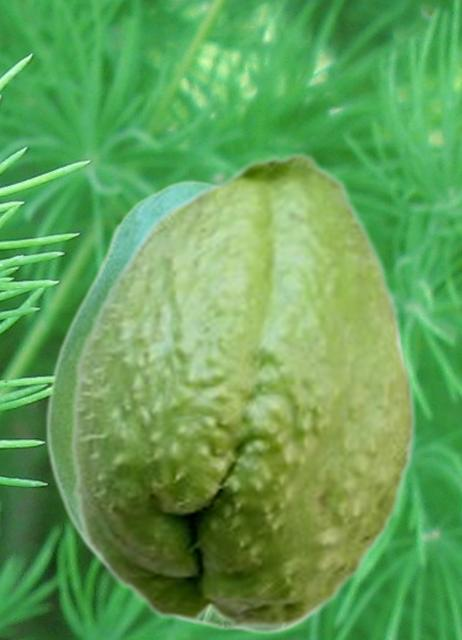sayote: (69, 149, 418, 631), (44, 180, 404, 635)
